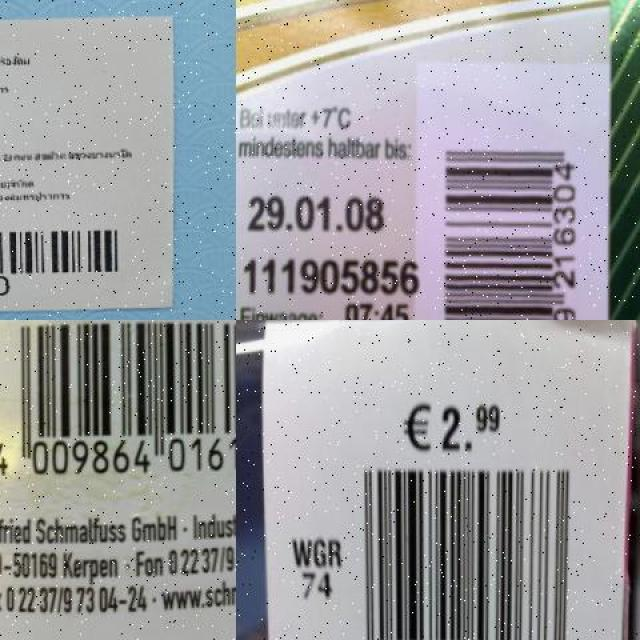Barcode: (414, 59, 594, 320), (339, 454, 581, 640), (0, 320, 236, 499), (0, 222, 133, 304)
